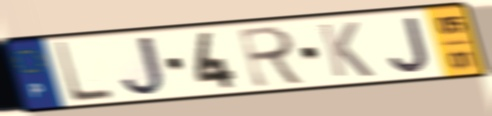4: (193, 29, 238, 91)
J: (119, 33, 168, 98), (387, 15, 433, 74)
K: (315, 20, 377, 79)
L: (51, 39, 116, 105)
R: (236, 24, 310, 90)
